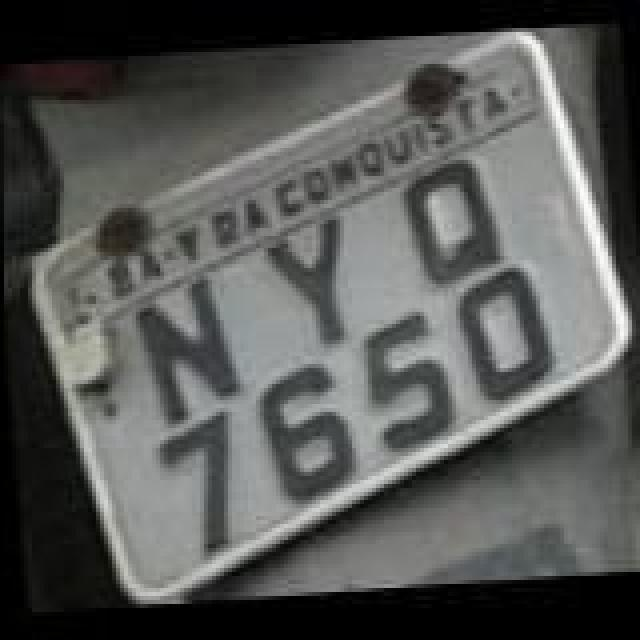5: (356, 310, 460, 458)
6: (256, 356, 364, 508)
7: (148, 404, 248, 564)
N: (136, 276, 240, 428)
O: (454, 256, 562, 408)
Q: (400, 150, 508, 290)
Y: (262, 212, 354, 356)
